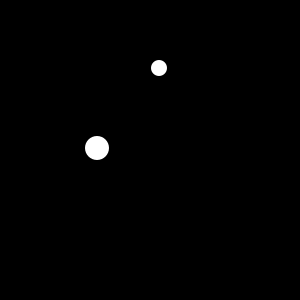rectangle: (85, 136, 109, 160), (151, 60, 167, 76)
